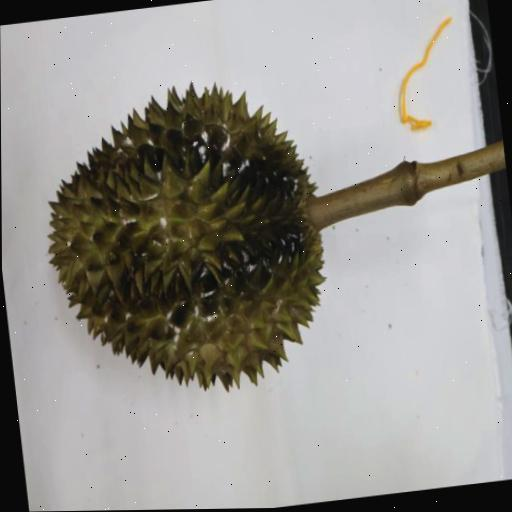mold: (0, 10, 512, 462)
